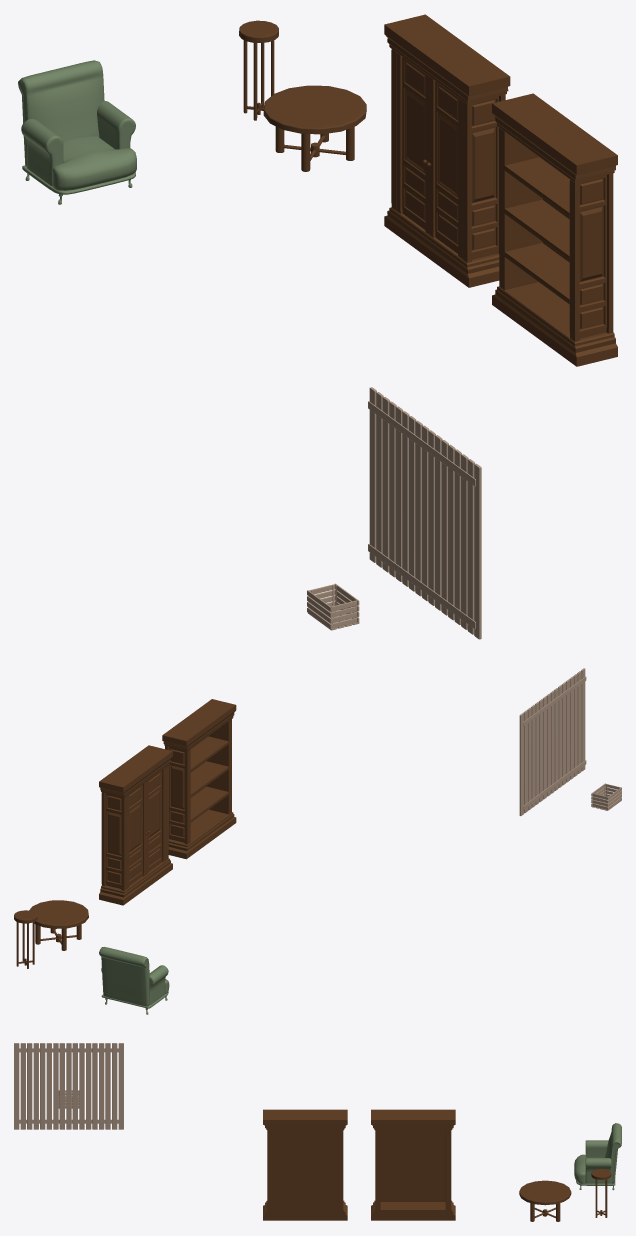
The model's file is PropSet2_V2.fbx.
The picture shows the model from 3 angles, top to bottom: view 1: azimuth 30°, elevation 25°; view 2: azimuth 150°, elevation 25°; view 3: azimuth 270°, elevation 25°; orthographic projection. The views are drawn at different scales.
Parts seen in each view (by area): view 1: Bookshelf, Cabinet, ThinHalfWall, Chair, CoffeeTable, Stool, StorageCrate; view 2: Cabinet, Bookshelf, ThinHalfWall, Chair, CoffeeTable, Stool, StorageCrate; view 3: ThinHalfWall, Cabinet, Bookshelf, Chair, CoffeeTable, Stool.
Boxes of the visible parts, x1=… form: Bookshelf: x1=492, y1=93, x2=617, y2=366; Cabinet: x1=384, y1=14, x2=510, y2=287; ThinHalfWall: x1=368, y1=387, x2=481, y2=639; Chair: x1=18, y1=60, x2=136, y2=204; CoffeeTable: x1=263, y1=85, x2=366, y2=171; Stool: x1=239, y1=20, x2=278, y2=120; StorageCrate: x1=307, y1=583, x2=359, y2=630; Cabinet: x1=99, y1=745, x2=172, y2=905; Bookshelf: x1=162, y1=699, x2=236, y2=859; ThinHalfWall: x1=519, y1=668, x2=586, y2=815; Chair: x1=99, y1=947, x2=169, y2=1014; CoffeeTable: x1=29, y1=900, x2=88, y2=950; Stool: x1=14, y1=910, x2=37, y2=968; StorageCrate: x1=591, y1=783, x2=621, y2=810; ThinHalfWall: x1=14, y1=1043, x2=123, y2=1129; Cabinet: x1=371, y1=1109, x2=455, y2=1220; Bookshelf: x1=263, y1=1109, x2=347, y2=1220; Chair: x1=574, y1=1123, x2=621, y2=1190; CoffeeTable: x1=519, y1=1180, x2=571, y2=1221; Stool: x1=591, y1=1168, x2=611, y2=1217.
Bounding box in the file's own units: 5.65 × 2.32 × 11.49.
